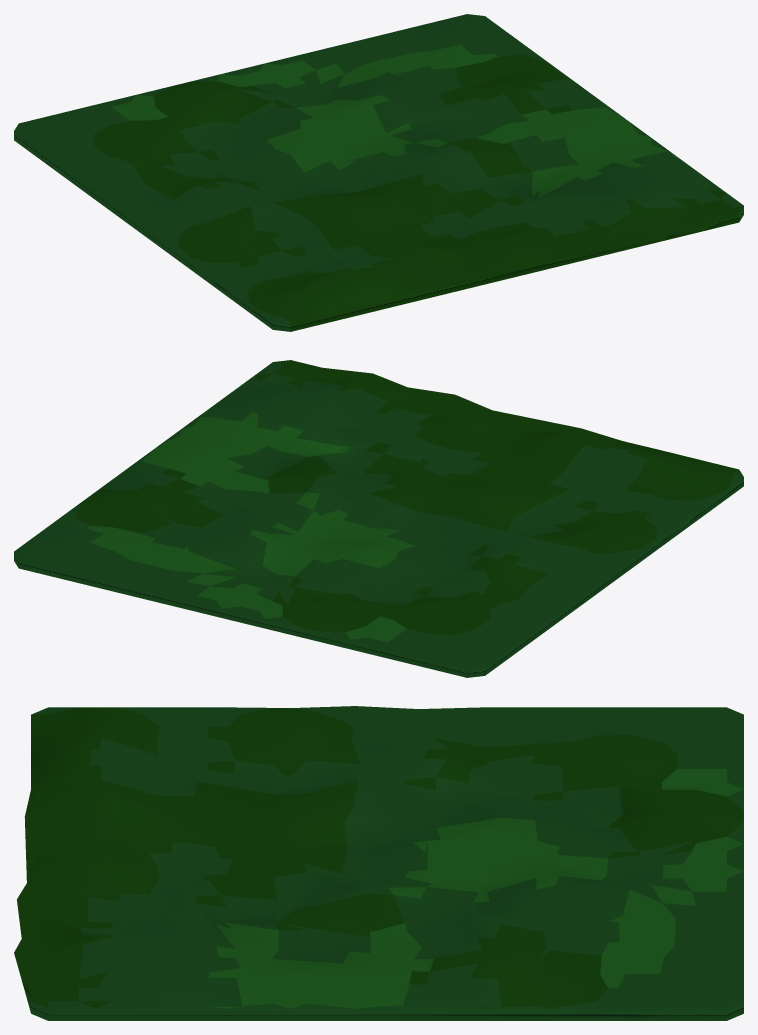
Rendered from land6 1.fbx.
The picture shows the model from 3 angles, top to bottom: view 1: azimuth 30°, elevation 25°; view 2: azimuth 150°, elevation 25°; view 3: azimuth 270°, elevation 25°; orthographic projection. The views are drawn at different scales.
Visible parts, largest first — view 1: land6; view 2: land6; view 3: land6.
Boxes of the visible parts, x1=… form: land6: x1=14, y1=14, x2=743, y2=331; land6: x1=14, y1=360, x2=743, y2=677; land6: x1=14, y1=706, x2=743, y2=1020.
Size of the model in its own units: 10037 by 537 by 10240.
